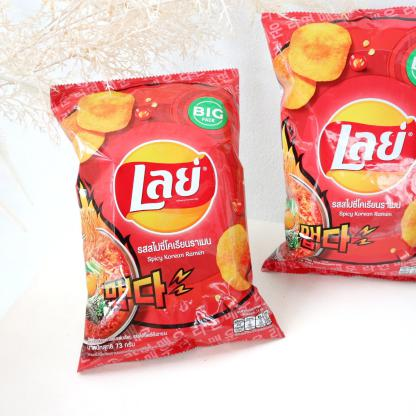potatochip: (39, 62, 290, 377), (248, 7, 416, 288)
